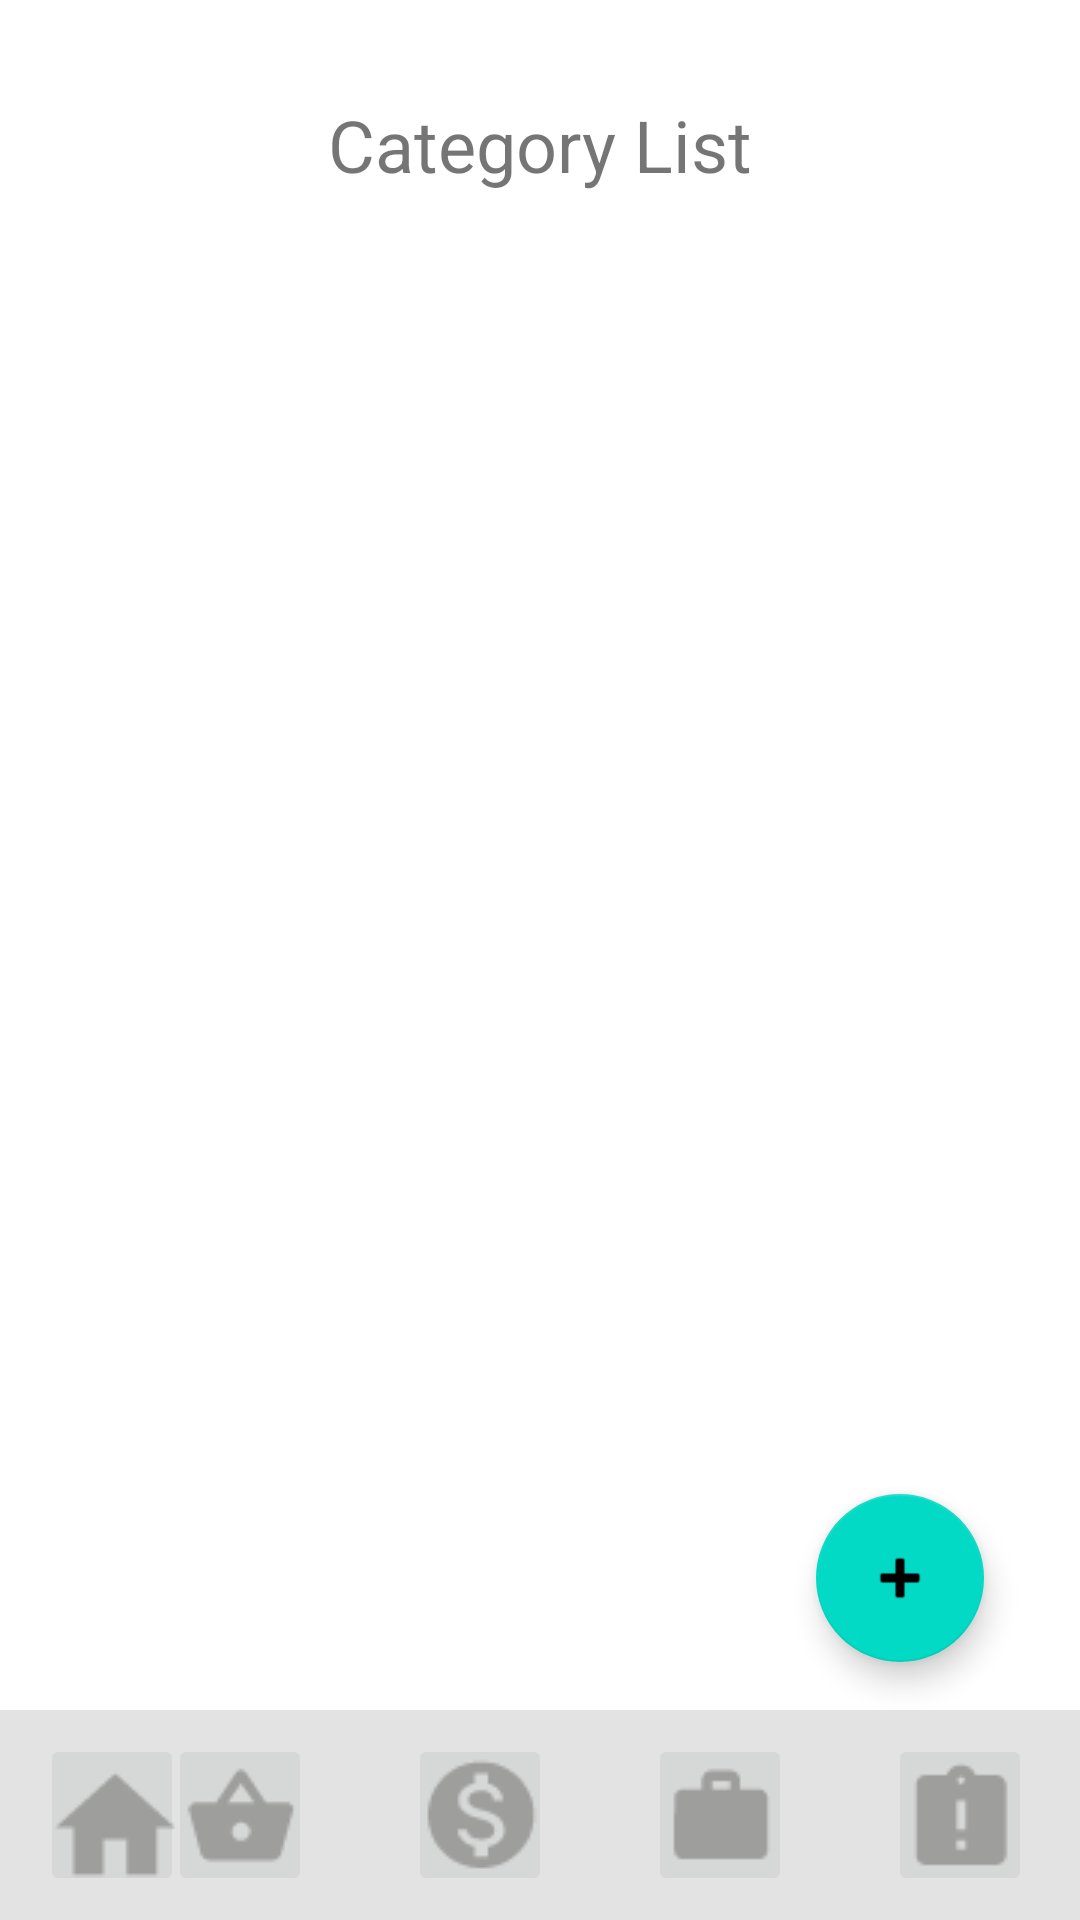

Point at icon controls on the screen. Image size 1080*1920, points as (x=x, y=y).
add: (x=900, y=1578)
homeicon: (x=115, y=1825)
incomeicon: (x=481, y=1815)
limiticon: (x=961, y=1815)
